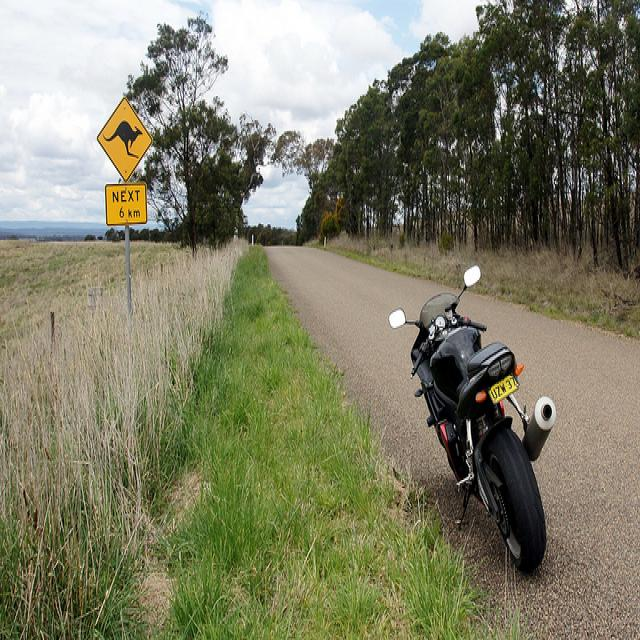motor: (388, 263, 557, 578)
